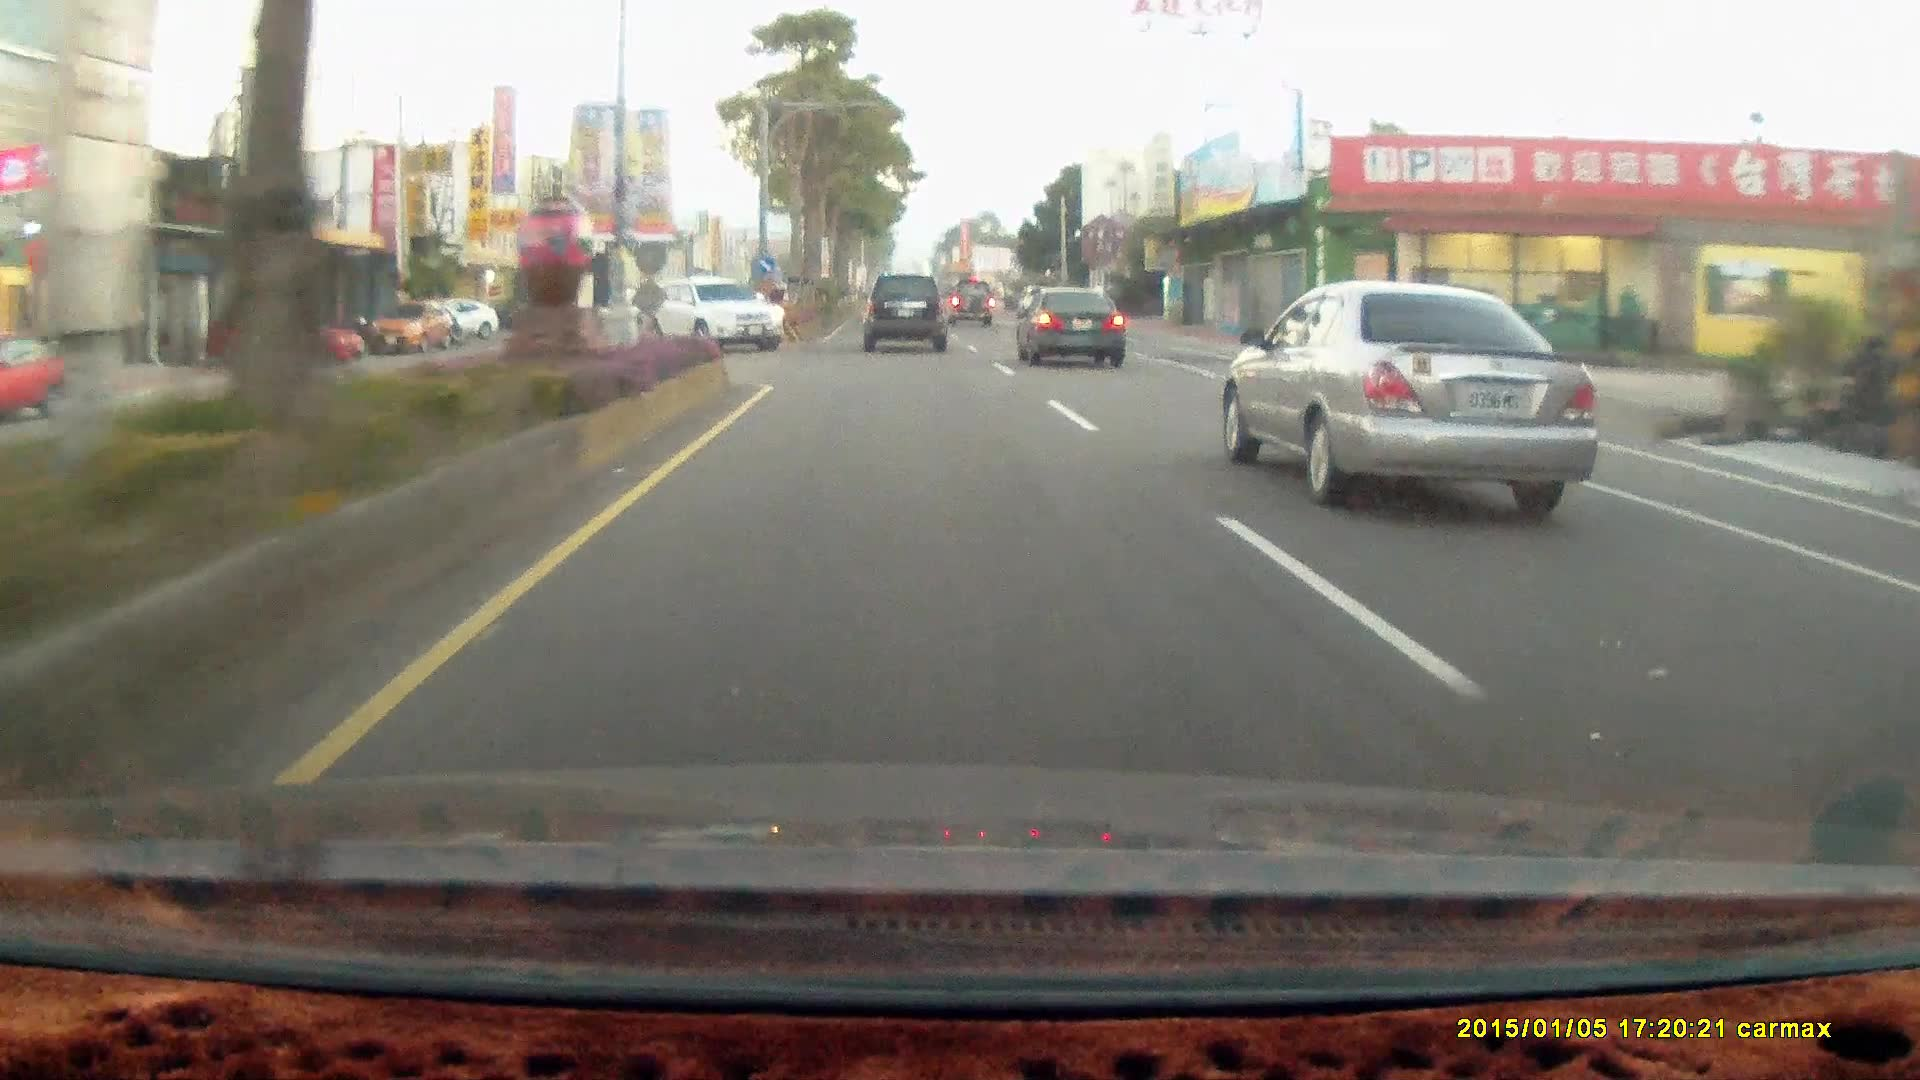vehicle: (1211, 282, 1611, 530), (640, 276, 785, 353), (196, 311, 368, 371), (1014, 286, 1129, 373), (659, 280, 789, 355), (203, 306, 364, 365), (1011, 284, 1124, 367), (862, 277, 953, 357), (1, 330, 71, 423), (861, 273, 944, 351), (360, 299, 468, 357), (364, 301, 454, 352), (417, 301, 500, 343), (944, 280, 996, 330)
